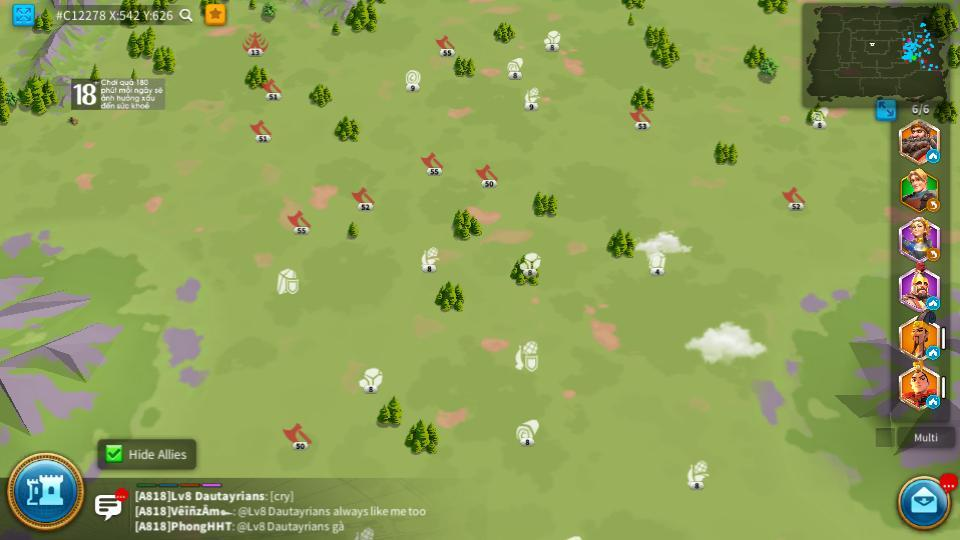gem-z-out: (356, 528, 375, 539), (564, 536, 586, 539)
march_idle: (926, 397, 940, 409), (926, 151, 940, 162), (927, 347, 940, 357), (925, 297, 938, 307)
march_returning: (926, 248, 941, 261), (927, 201, 940, 212)
